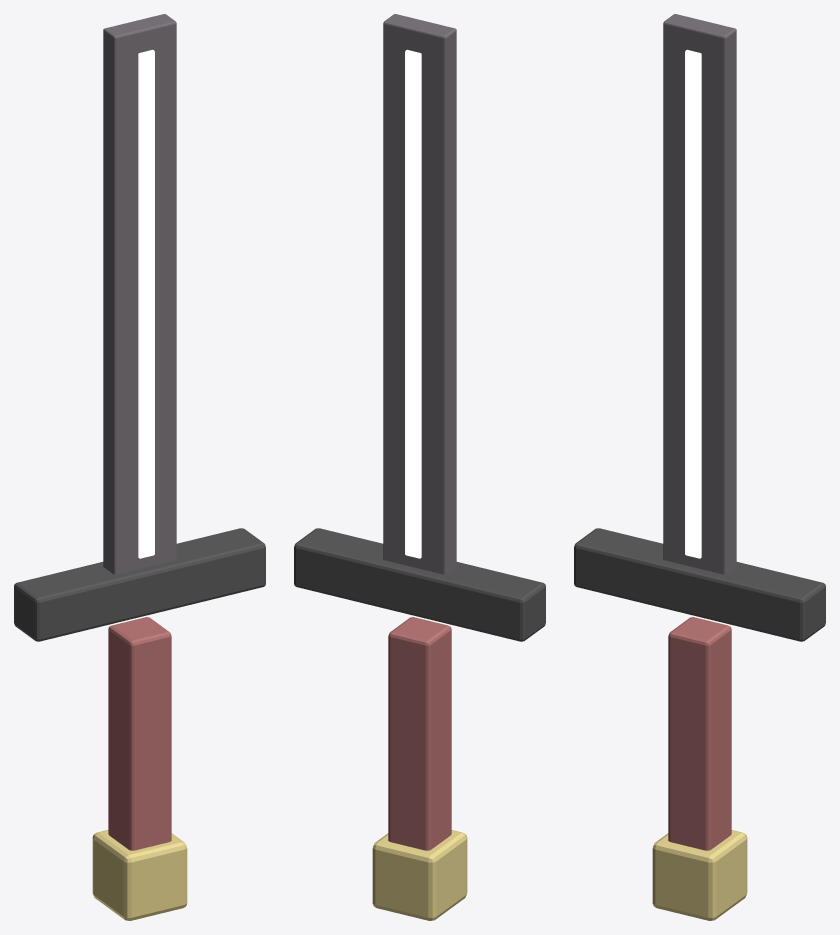
The model's file is weapon_cinderbloom_sword.glb.
3 views of the same model, side by side, from view 1: azimuth 30°, elevation 25°; view 2: azimuth 150°, elevation 25°; view 3: azimuth 330°, elevation 25° (orthographic).
Visible parts, largest first — view 1: Blade, Crossguard, Grip, Ember_line, Pommel; view 2: Blade, Crossguard, Grip, Ember_line, Pommel; view 3: Blade, Crossguard, Grip, Ember_line, Pommel.
Part boxes in pixels (<box>): Blade: <box>103,14,176,574</box>; Crossguard: <box>14,528,265,641</box>; Grip: <box>108,617,171,850</box>; Ember_line: <box>138,49,154,558</box>; Pommel: <box>92,830,187,920</box>; Blade: <box>383,14,456,574</box>; Crossguard: <box>294,528,545,641</box>; Grip: <box>388,617,451,850</box>; Ember_line: <box>405,49,421,558</box>; Pommel: <box>372,830,467,920</box>; Blade: <box>663,14,736,574</box>; Crossguard: <box>574,528,825,641</box>; Grip: <box>668,617,731,850</box>; Ember_line: <box>685,49,701,558</box>; Pommel: <box>652,830,747,920</box>.
Bounding box in the file's own units: 0.22 × 0.8 × 0.06.
